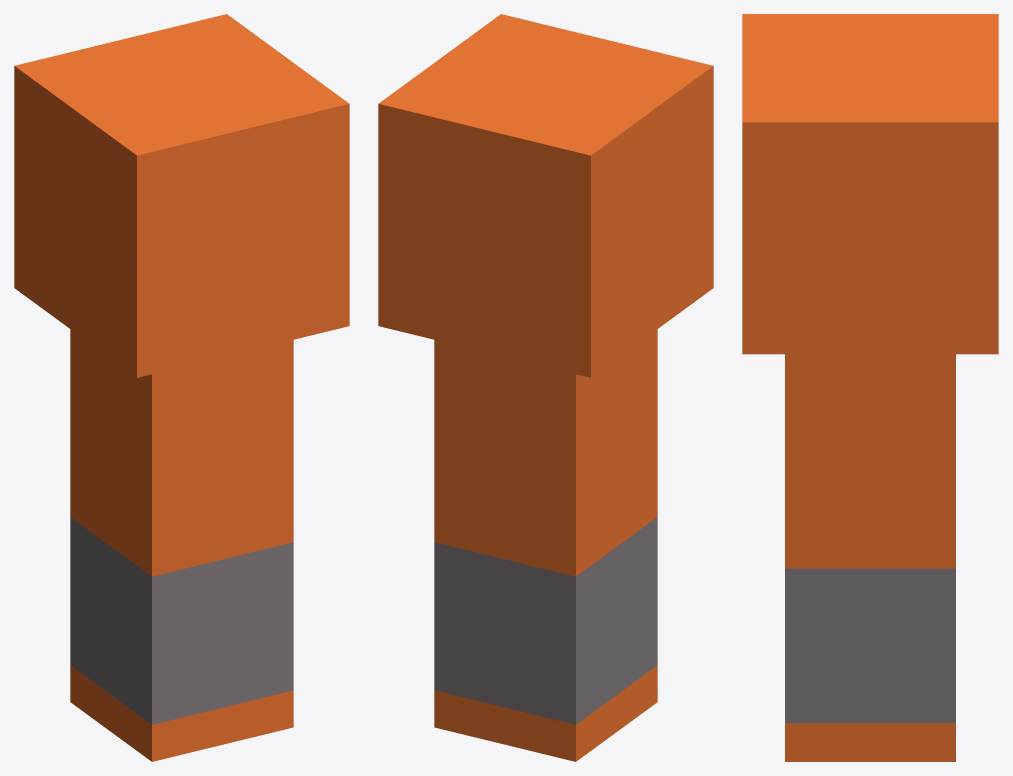
Rendered from ClubOfPoor.fbx.
3 renders of one model, left to right at view 1: azimuth 30°, elevation 25°; view 2: azimuth 150°, elevation 25°; view 3: azimuth 270°, elevation 25°, orthographic. The views are drawn at different scales.
Parts seen in each view (by area): view 1: Cube.004, Cube.001, Cube.002, Cube.003; view 2: Cube.004, Cube.001, Cube.002, Cube.003; view 3: Cube.004, Cube.001, Cube.002, Cube.003.
Boxes of the visible parts, box(x1,y1,x2,y2) form: Cube.004: box(14, 14, 349, 377); Cube.001: box(70, 329, 293, 576); Cube.002: box(70, 517, 293, 724); Cube.003: box(70, 665, 293, 761); Cube.004: box(378, 14, 713, 377); Cube.001: box(434, 329, 657, 576); Cube.002: box(434, 517, 657, 724); Cube.003: box(434, 665, 657, 761); Cube.004: box(742, 14, 998, 354); Cube.001: box(785, 354, 955, 568); Cube.002: box(785, 568, 955, 723); Cube.003: box(785, 723, 955, 761).
Bounding box in the file's own units: 66 × 187 × 66.
